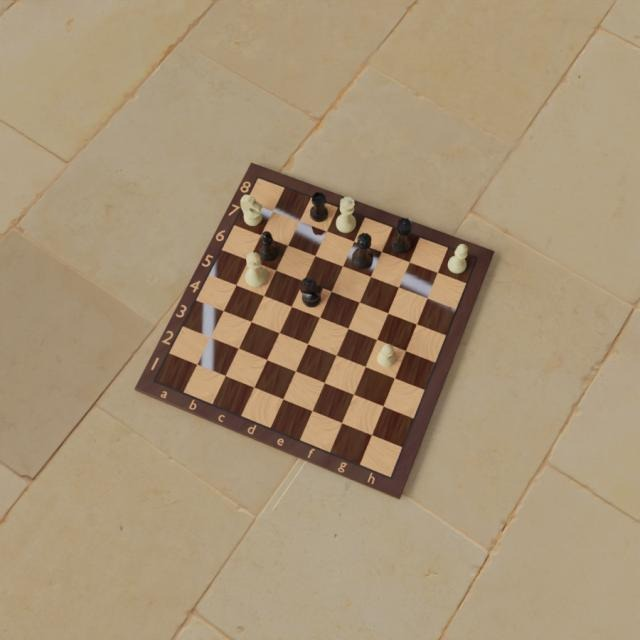black-bishop: (260, 229, 278, 262)
black-king: (350, 232, 375, 271)
black-pawn: (301, 274, 322, 310)
black-queen: (390, 216, 414, 256)
black-rook: (308, 189, 328, 222)
white-bishop: (447, 243, 468, 277)
white-king: (244, 250, 267, 290)
white-knight: (239, 192, 264, 227)
white-pawn: (377, 342, 397, 370)
white-queen: (335, 194, 357, 234)
